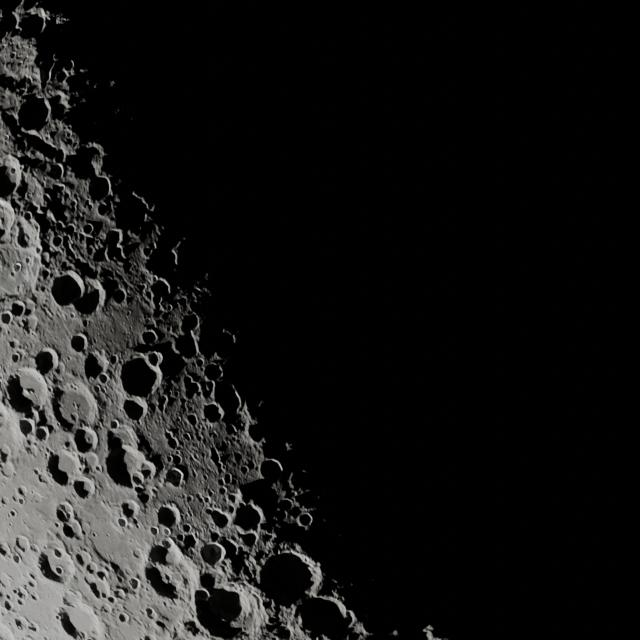crater: (254, 550, 320, 609), (109, 188, 157, 252), (105, 438, 153, 490), (15, 126, 66, 168), (298, 594, 350, 634), (119, 353, 163, 399), (56, 382, 99, 429), (238, 475, 280, 516), (13, 366, 52, 409), (206, 585, 246, 624), (277, 512, 317, 548), (61, 602, 102, 637), (212, 379, 245, 422), (45, 56, 78, 98), (198, 321, 232, 360), (17, 96, 52, 133), (146, 563, 181, 597), (51, 272, 85, 306), (42, 546, 74, 582), (72, 143, 105, 175), (72, 280, 102, 315), (202, 609, 238, 638), (14, 216, 41, 254), (52, 448, 82, 481), (233, 502, 264, 532), (17, 10, 49, 39), (0, 153, 22, 194), (84, 570, 112, 602), (173, 330, 201, 361), (102, 227, 126, 258), (160, 540, 186, 568), (89, 174, 114, 203), (122, 396, 148, 423), (34, 347, 59, 375), (156, 504, 182, 530), (83, 351, 105, 381), (259, 457, 284, 482), (74, 427, 98, 453), (201, 542, 226, 566), (48, 95, 70, 122), (208, 507, 232, 530), (150, 277, 173, 301), (218, 537, 240, 562), (144, 609, 167, 631), (73, 477, 95, 499), (149, 543, 171, 565), (203, 402, 224, 424), (1, 452, 18, 477), (165, 467, 185, 488), (204, 362, 224, 382), (121, 500, 141, 520), (181, 312, 200, 332), (247, 422, 265, 443), (70, 333, 88, 353), (56, 502, 74, 522), (14, 614, 34, 632), (19, 418, 36, 438), (62, 522, 79, 540), (199, 572, 216, 590), (76, 549, 92, 568), (10, 300, 26, 317), (297, 512, 313, 529), (84, 452, 100, 469), (142, 329, 158, 345), (15, 535, 30, 552), (194, 588, 210, 603), (33, 468, 48, 484), (97, 201, 111, 217), (36, 426, 50, 441), (172, 452, 186, 467), (186, 413, 199, 428), (51, 235, 64, 249), (1, 444, 12, 460), (185, 620, 199, 632), (117, 612, 130, 624), (86, 561, 98, 574), (15, 591, 26, 605), (223, 472, 234, 486), (266, 615, 278, 627), (82, 223, 94, 235), (96, 569, 107, 582), (40, 267, 51, 280), (1, 312, 12, 325), (115, 587, 126, 599), (18, 485, 29, 497), (26, 579, 36, 592), (239, 464, 250, 475), (150, 274, 160, 286), (1, 542, 10, 554), (146, 608, 156, 618), (149, 526, 159, 536), (218, 485, 228, 495), (9, 339, 19, 349), (24, 211, 34, 221), (129, 578, 138, 588), (133, 549, 142, 559), (118, 517, 127, 527), (184, 431, 193, 441), (109, 354, 118, 364), (11, 353, 20, 363), (8, 509, 17, 518), (13, 554, 21, 564), (15, 620, 23, 630), (22, 318, 30, 328), (64, 438, 72, 448), (4, 601, 12, 611), (17, 496, 25, 505), (143, 635, 157, 640), (1, 496, 8, 505)
